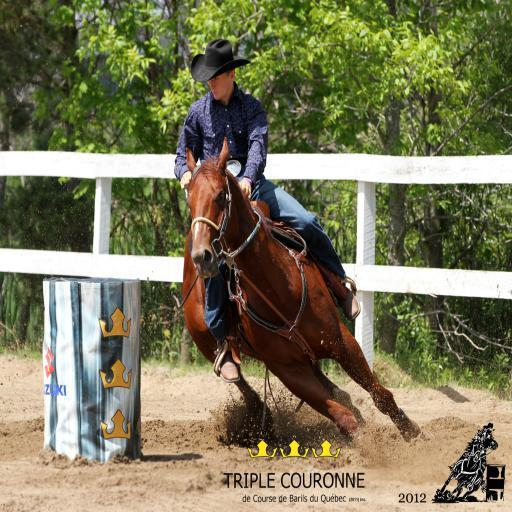horse: (184, 140, 424, 464), (443, 438, 487, 502)
